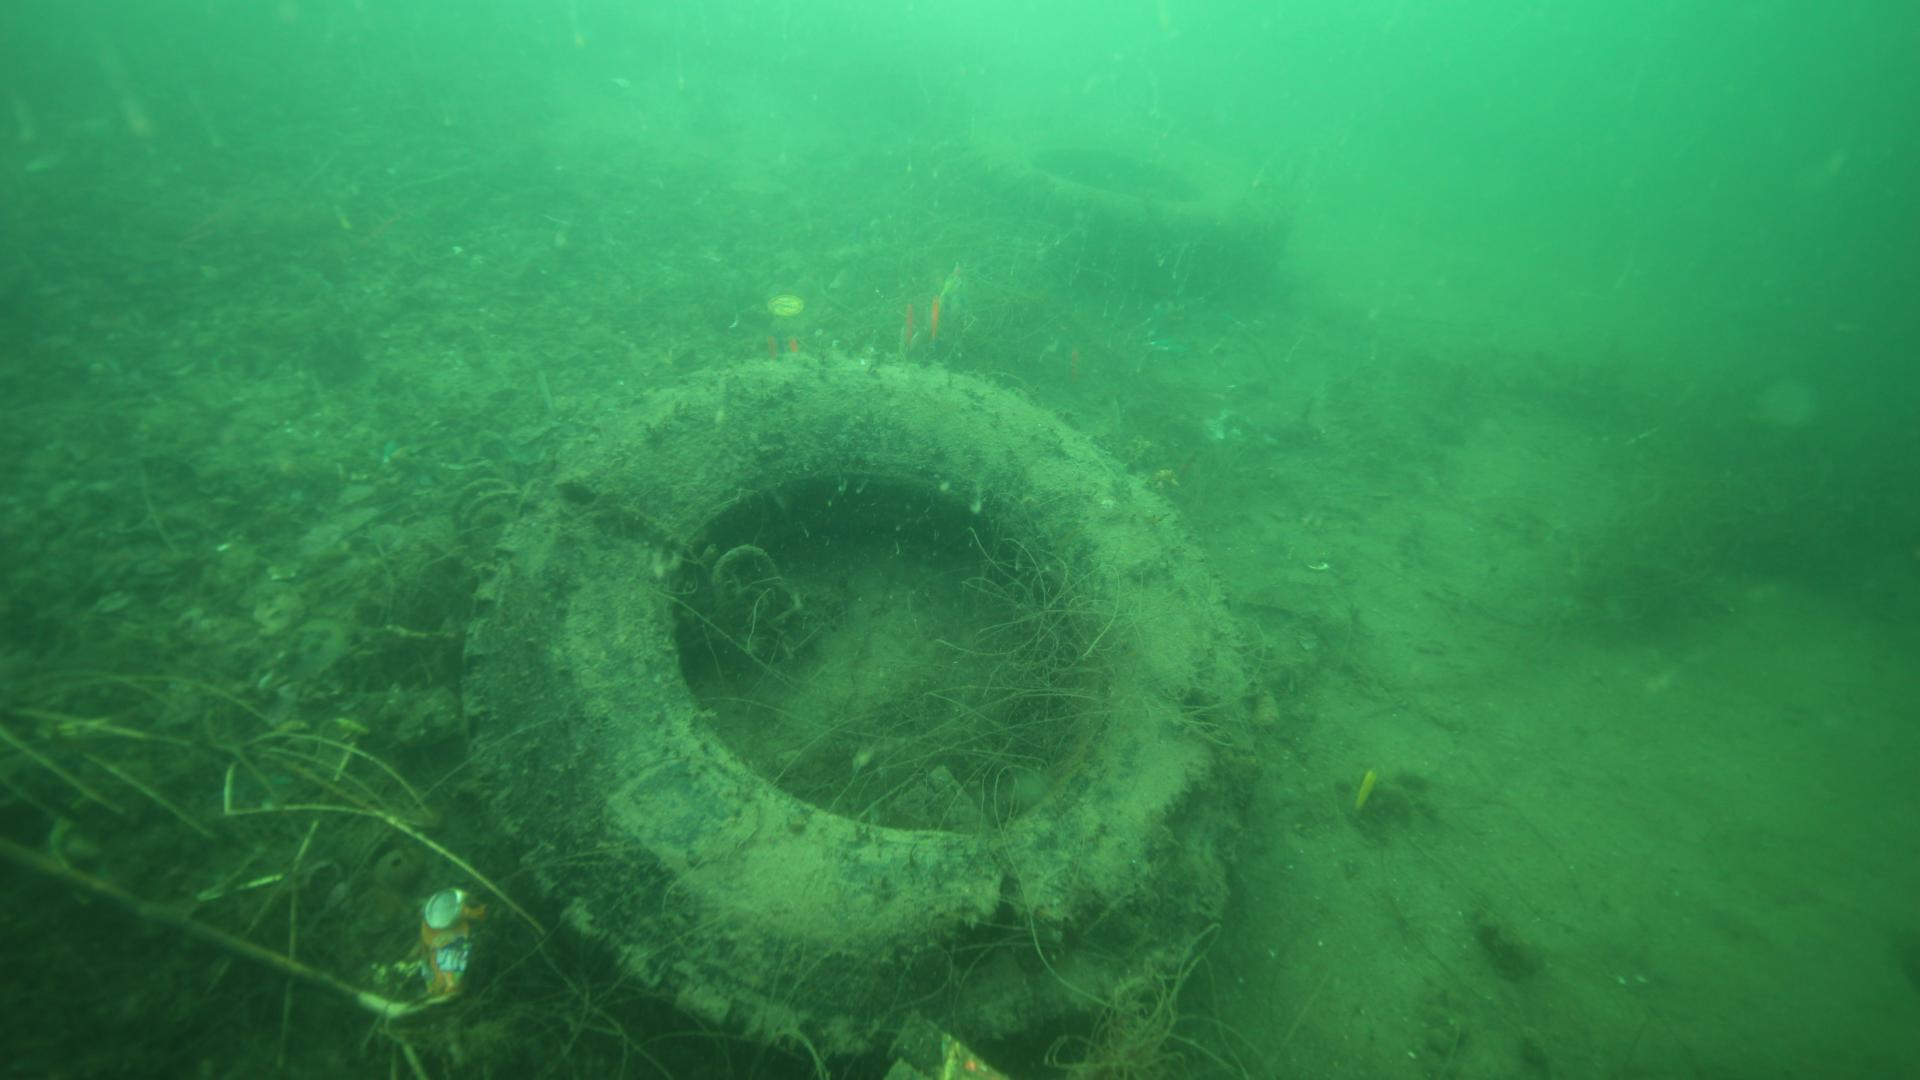tire: (462, 357, 1251, 1054), (953, 123, 1307, 287)
